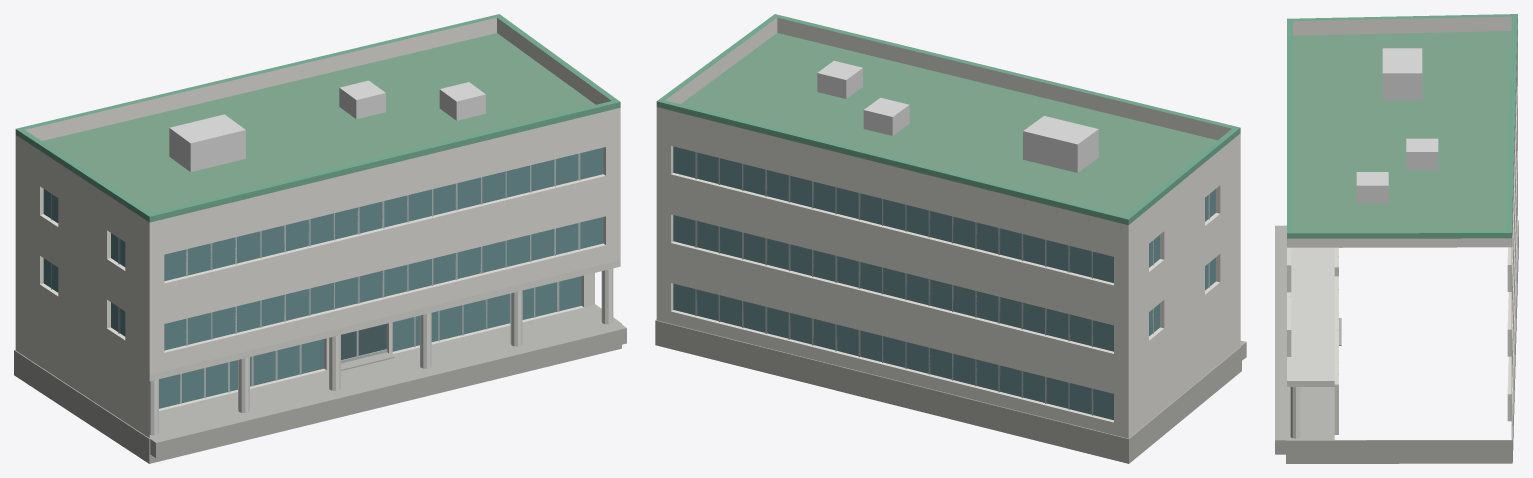
3 views of the same model, side by side, from view 1: azimuth 30°, elevation 25°; view 2: azimuth 150°, elevation 25°; view 3: azimuth 270°, elevation 25° (orthographic). The views are drawn at different scales.
Parts seen in each view (by area): view 1: C3B warm white panel walls, C3B green roof, C3B blue green ribbon glass, C3B granite base, C3B green roof edge, C3B rooftop plant, C3B white arcade columns pole, C3B arcade soffit, C3B grey mullions, C3B dark glass doors; view 2: C3B warm white panel walls, C3B green roof, C3B blue green ribbon glass, C3B granite base, C3B green roof edge, C3B rooftop plant, C3B grey mullions; view 3: C3B green roof, C3B granite base, C3B warm white panel walls, C3B arcade soffit, C3B green roof edge, C3B rooftop plant, C3B white arcade columns pole.
Boxes of the visible parts, bbox=[...] form: C3B warm white panel walls: bbox=[15, 17, 620, 437]; C3B green roof: bbox=[42, 33, 595, 212]; C3B blue green ribbon glass: bbox=[43, 147, 603, 408]; C3B granite base: bbox=[14, 304, 626, 463]; C3B green roof edge: bbox=[15, 14, 620, 222]; C3B rooftop plant: bbox=[169, 80, 485, 171]; C3B white arcade columns pole: bbox=[149, 268, 613, 435]; C3B arcade soffit: bbox=[149, 260, 620, 381]; C3B grey mullions: bbox=[51, 153, 580, 403]; C3B dark glass doors: bbox=[341, 324, 386, 359]; C3B warm white panel walls: bbox=[656, 17, 1240, 438]; C3B green roof: bbox=[681, 33, 1217, 215]; C3B blue green ribbon glass: bbox=[673, 146, 1215, 420]; C3B granite base: bbox=[655, 319, 1246, 463]; C3B green roof edge: bbox=[656, 14, 1240, 225]; C3B rooftop plant: bbox=[817, 60, 1098, 172]; C3B grey mullions: bbox=[695, 152, 1209, 415]; C3B green roof: bbox=[1293, 31, 1511, 230]; C3B granite base: bbox=[1275, 220, 1518, 463]; C3B warm white panel walls: bbox=[1287, 16, 1517, 438]; C3B arcade soffit: bbox=[1287, 247, 1334, 386]; C3B green roof edge: bbox=[1287, 14, 1517, 238]; C3B rooftop plant: bbox=[1356, 48, 1438, 203]; C3B white arcade columns pole: bbox=[1290, 387, 1300, 438].
Bounding box in the file's own units: 26.26 × 13.5 × 12.29.
